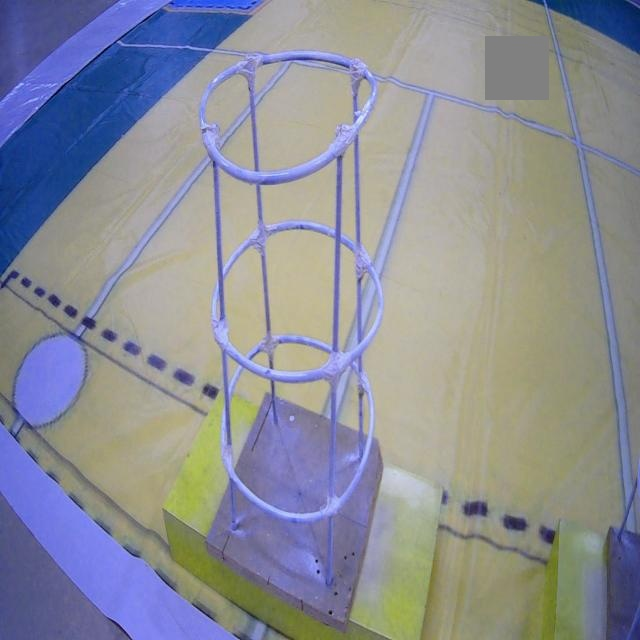silo: (204, 54, 376, 617)
